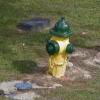Hydrant: (40, 12, 77, 82)
